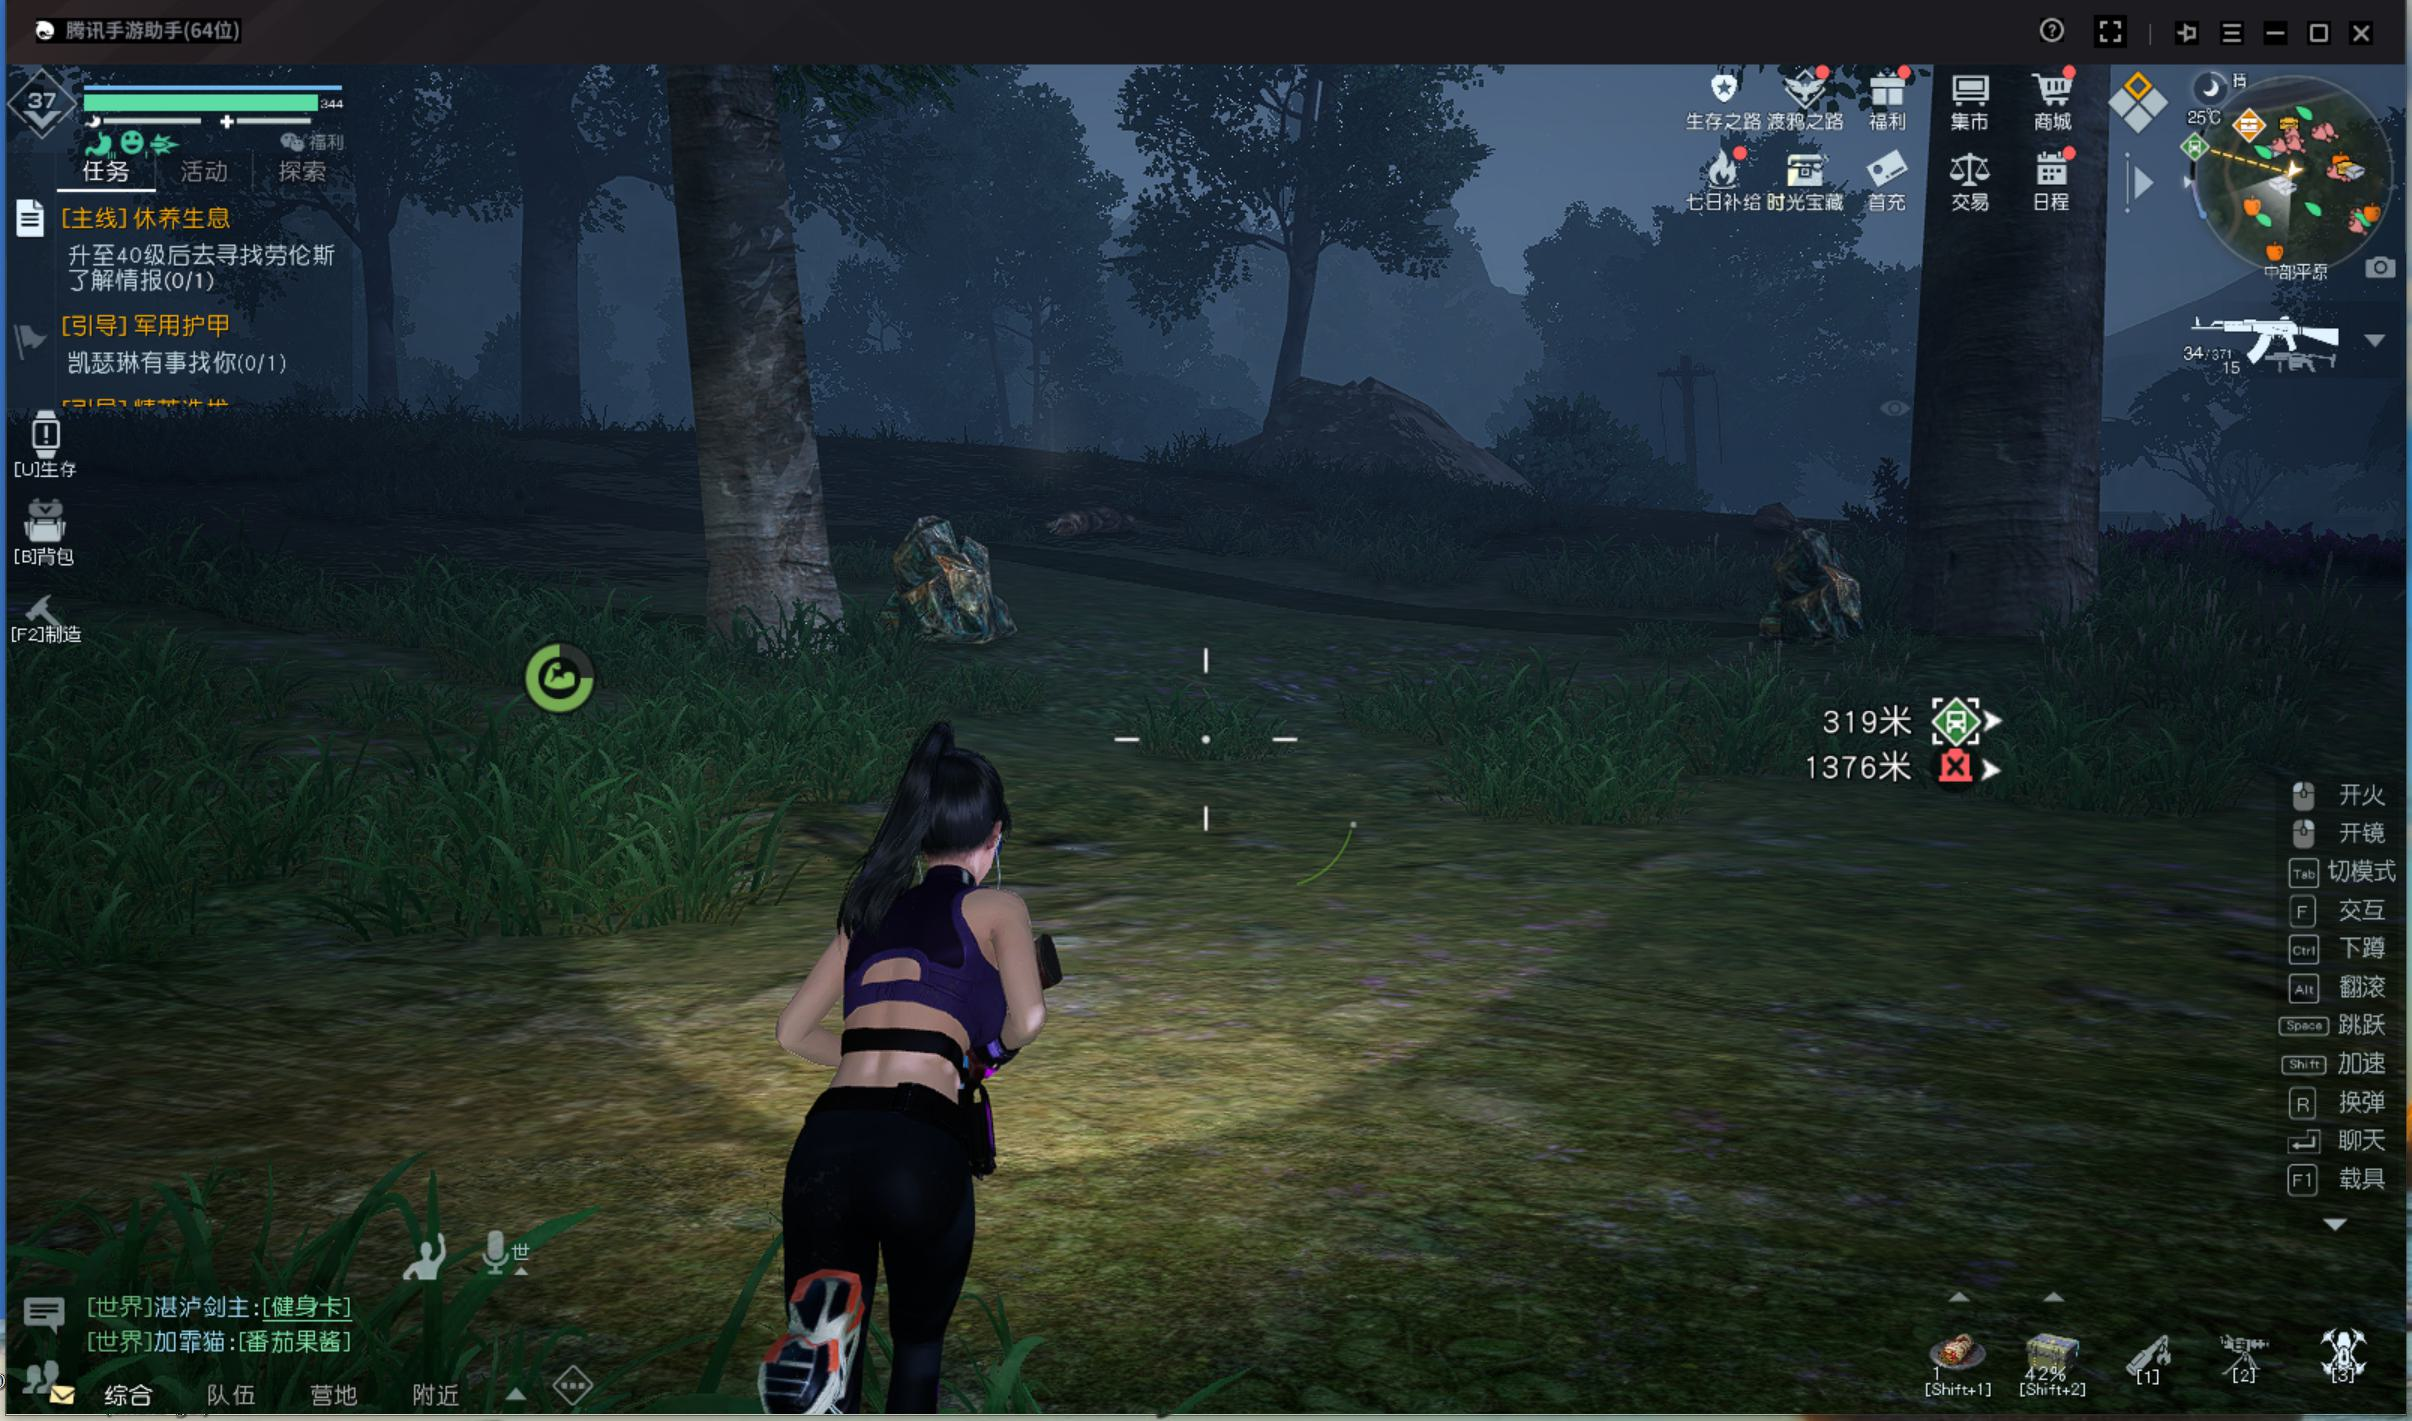stone: (869, 496, 1035, 643), (1713, 511, 1849, 656)
tree: (1910, 174, 2111, 661), (663, 178, 852, 667), (501, 222, 595, 452), (1267, 259, 1323, 475), (348, 250, 416, 421)
